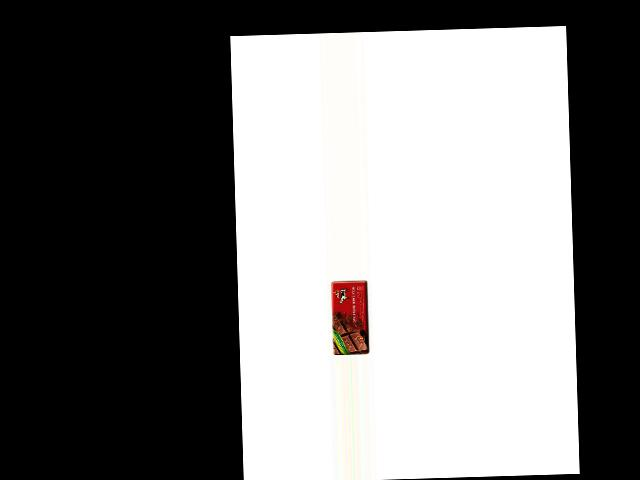chocolate: (330, 278, 371, 355)
